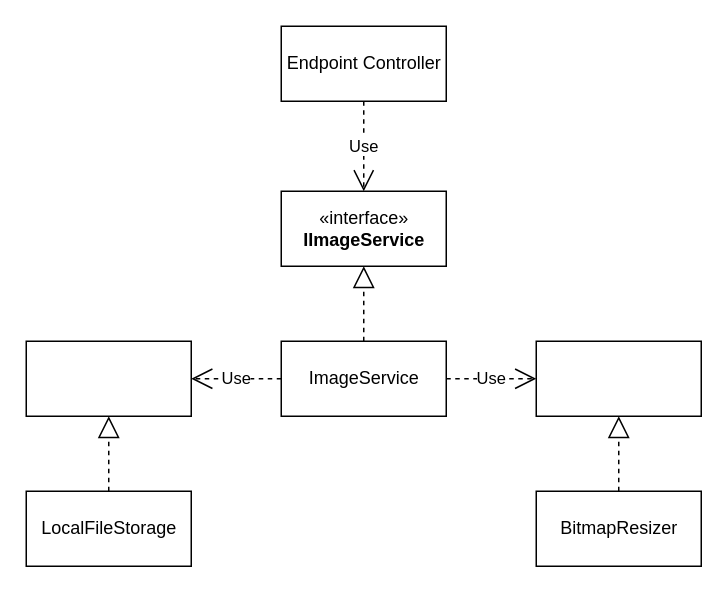
The diagram is 728 pixels wide and 593 high, and some of its shapes have lost their labels. Here are the shapes that lost their labels. From the top down, the centre of each, then its label:
At (x=108, y=378): "«interface» IImageStorage".
At (x=618, y=378): "«interface» IImageResizer".
